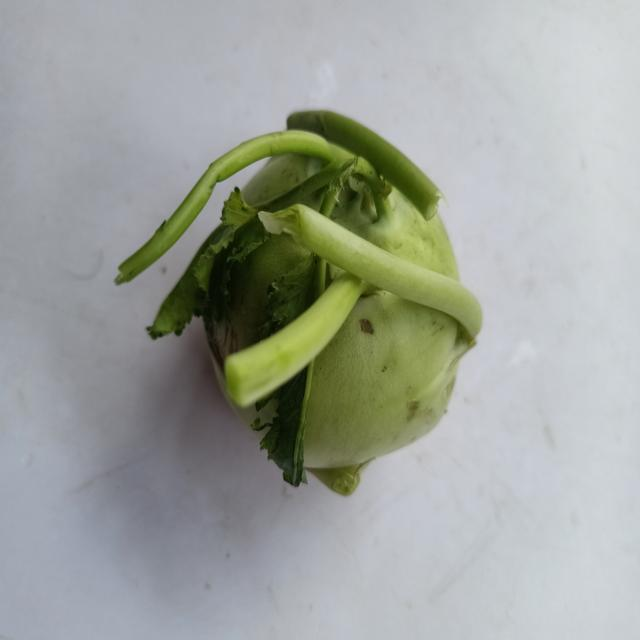Turnip: (104, 88, 518, 514)
